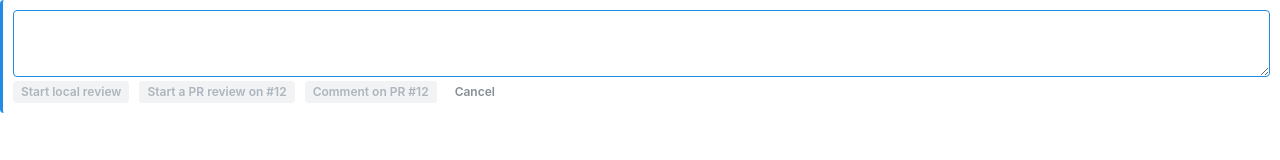
Test: NewCommentCard › with a PR › Comment on PR posts a single comment; a refusal shows its reason and keeps the text
In the text box: (642, 43) [13,10,1270,77], type "nice"
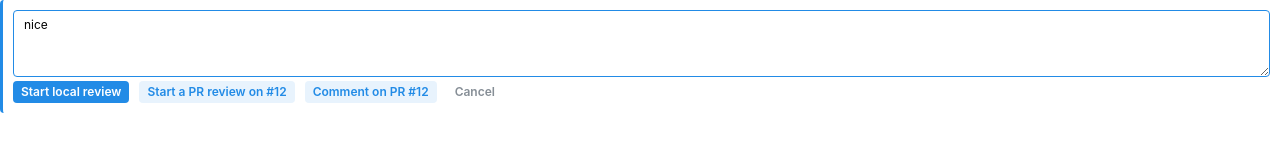
Result: the button "Comment on PR #12" does not have attribute aria-disabled="true"
Click the button "Comment on PR #12": (371, 92) [305,81,437,103]
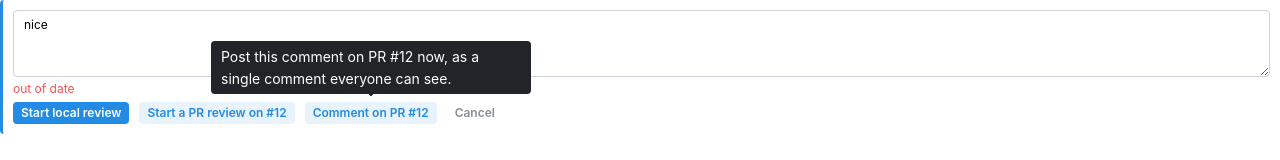
Result: the text "out of date" is shown at [13,81,74,96]
